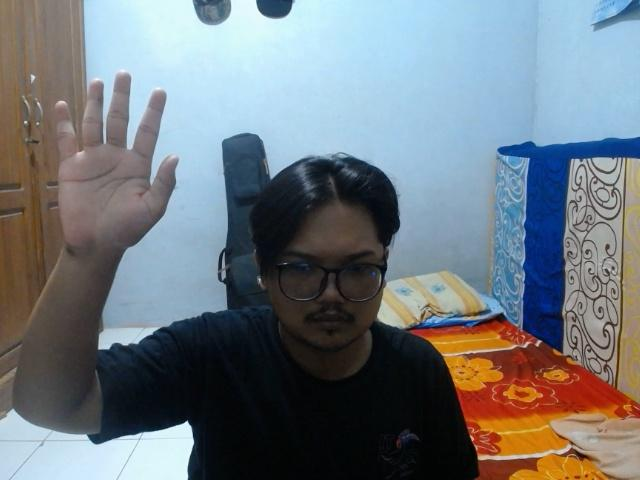Release: (47, 68, 184, 260)
